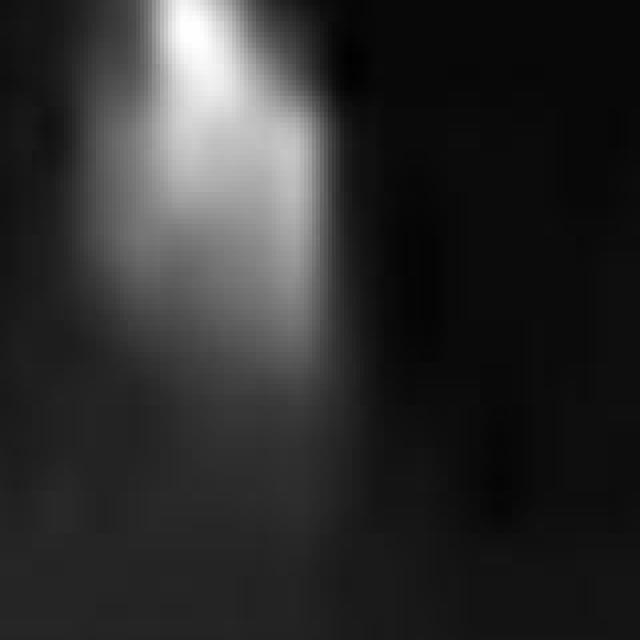person: (61, 1, 333, 508)
